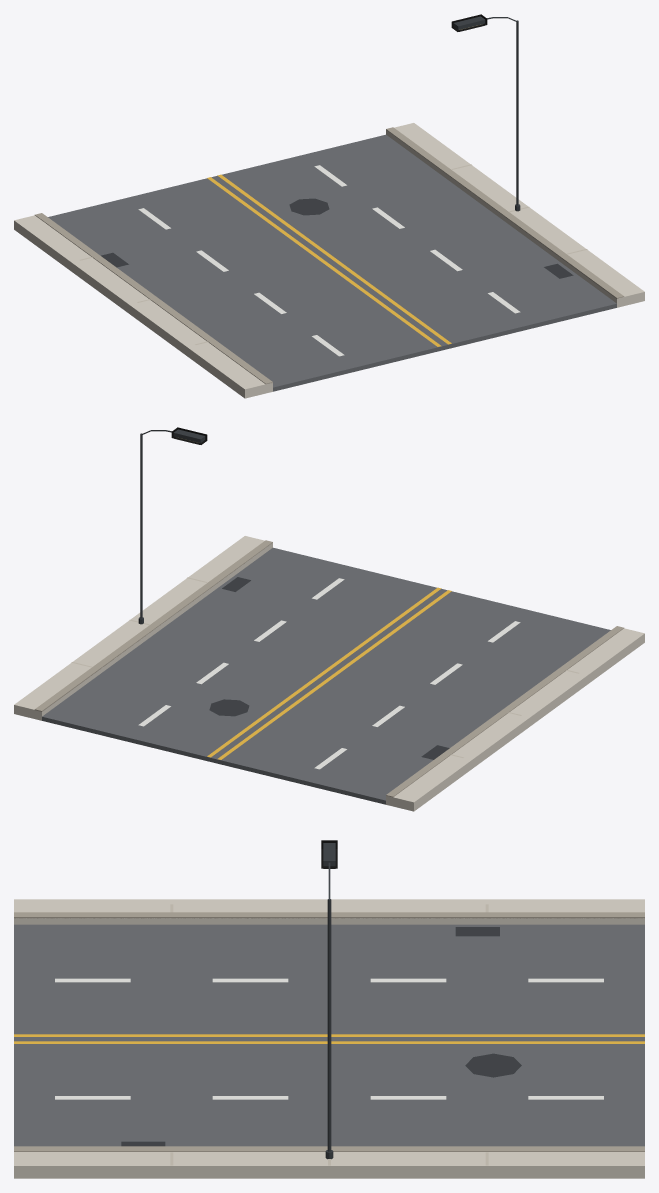
File: Yol_cadde_01.fbx
3 renders of one model, top to bottom at view 1: azimuth 30°, elevation 25°; view 2: azimuth 150°, elevation 25°; view 3: azimuth 270°, elevation 25°, orthographic. The views are drawn at different scales.
Visible parts, largest first — view 1: Yol_cadde_01; view 2: Yol_cadde_01; view 3: Yol_cadde_01.
Part boxes in pixels (x1,y1,x2,y2): Yol_cadde_01: (14, 14, 644, 398); Yol_cadde_01: (14, 427, 644, 811); Yol_cadde_01: (14, 840, 644, 1178).
Bounding box in the file's own units: 10 × 5.04 × 10.
